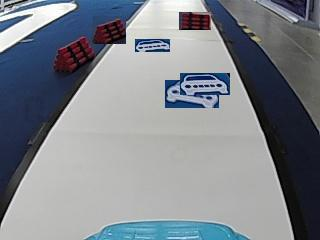bomb: (55, 34, 93, 71)
